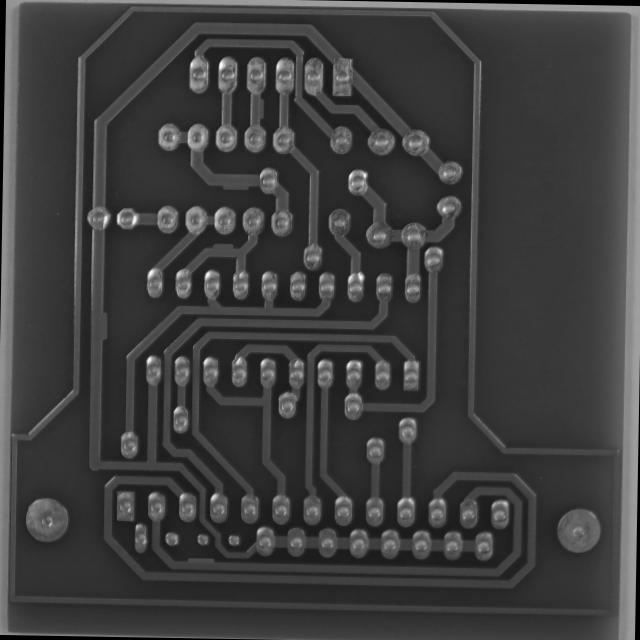spur: (218, 167, 252, 194), (90, 307, 112, 343), (182, 551, 218, 570), (204, 238, 237, 258), (246, 93, 267, 121)
